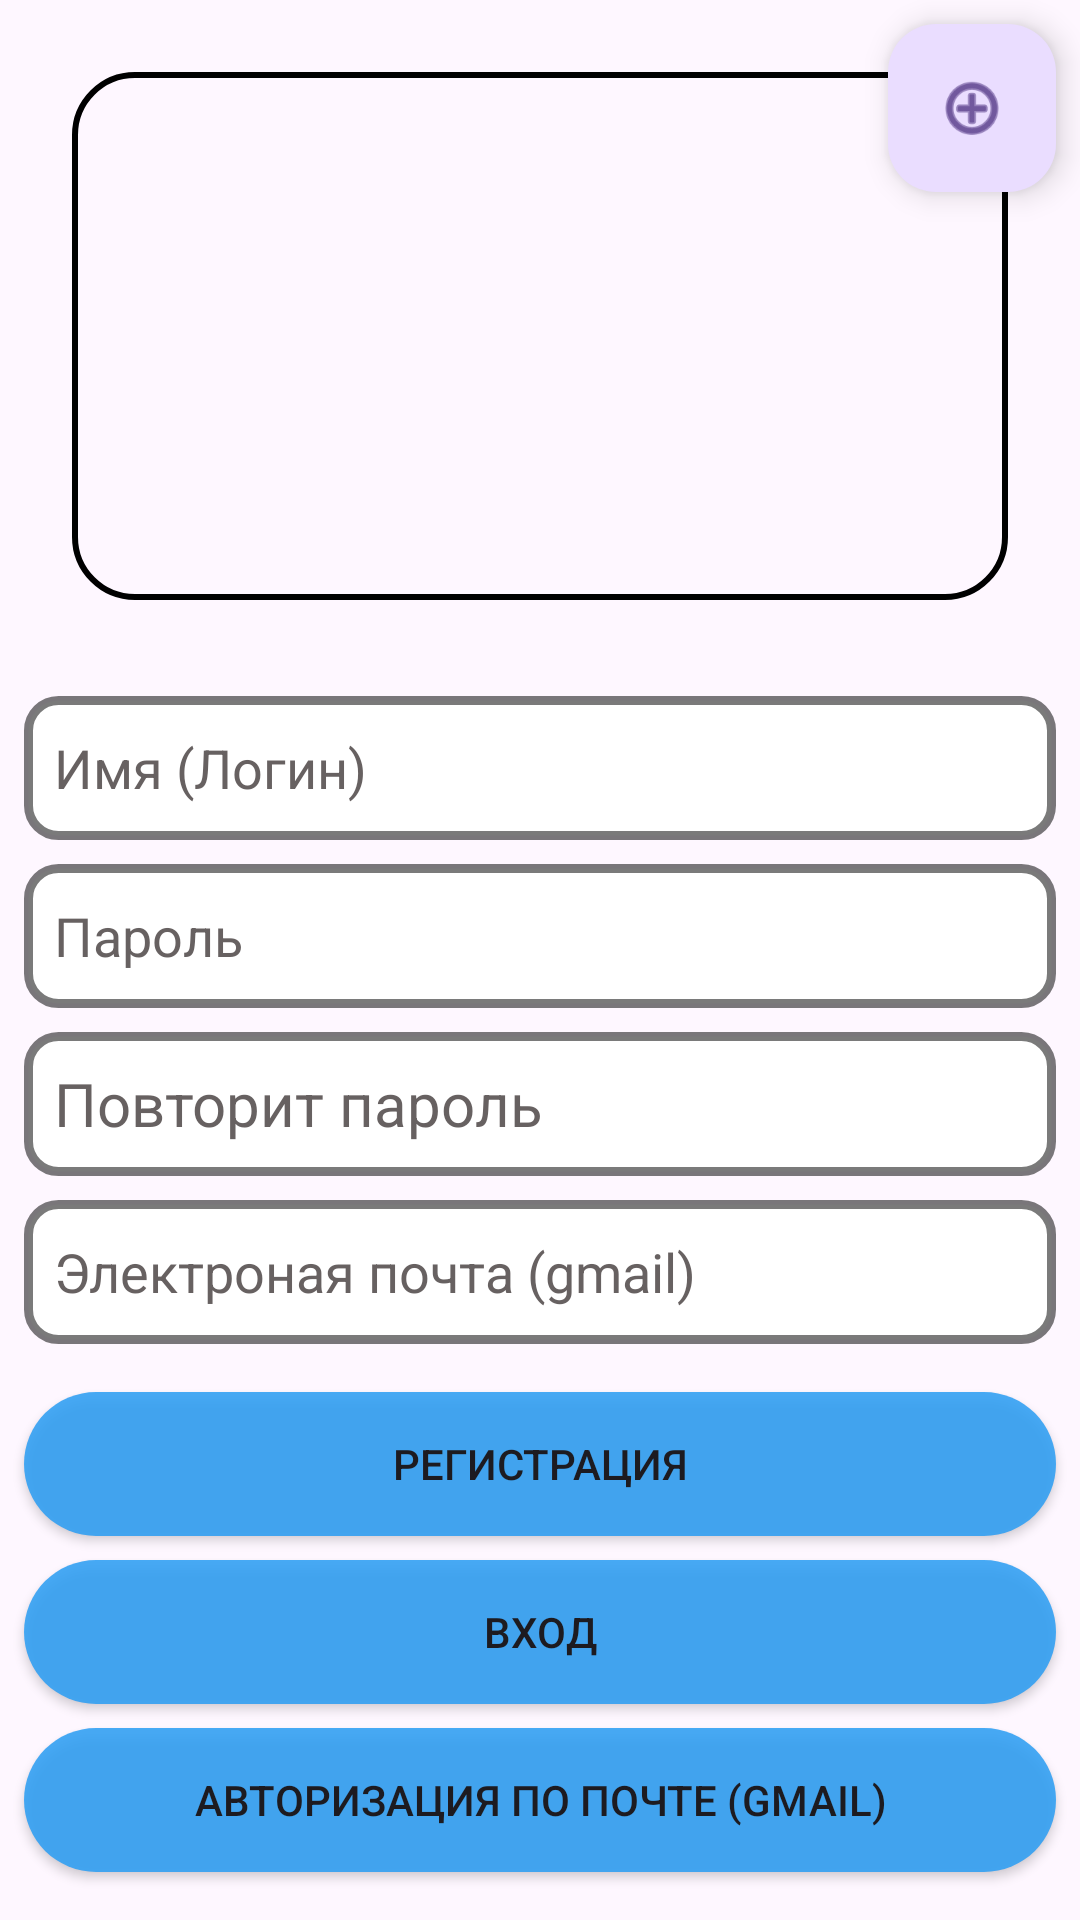

Named icons in this screenshot (1080×1920) and their centers, [x,y]:
add: [972,108]
